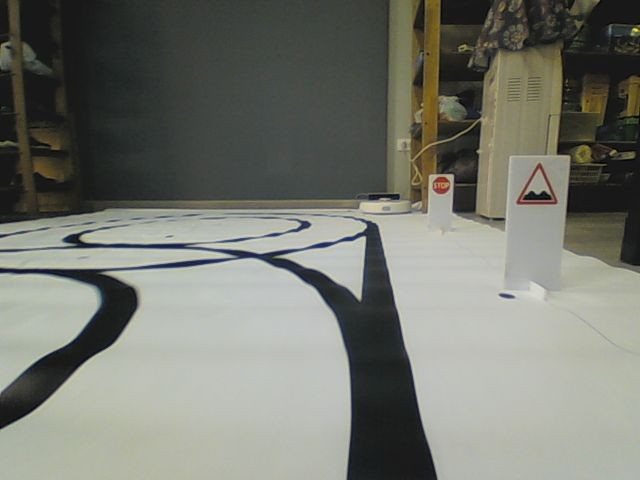Nerov: (512, 160, 559, 206)
Stop: (432, 176, 451, 195)
